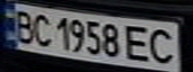1: (51, 13, 72, 51)
5: (84, 18, 103, 56)
8: (100, 20, 124, 58)
9: (66, 16, 87, 53)
B: (9, 7, 39, 44)
C: (142, 25, 184, 65), (30, 11, 54, 47)
E: (121, 24, 157, 63)
